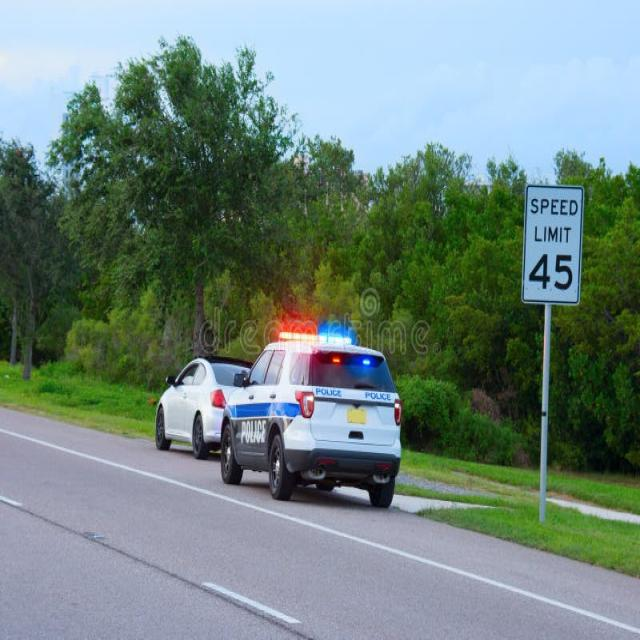cop: (222, 326, 403, 512)
